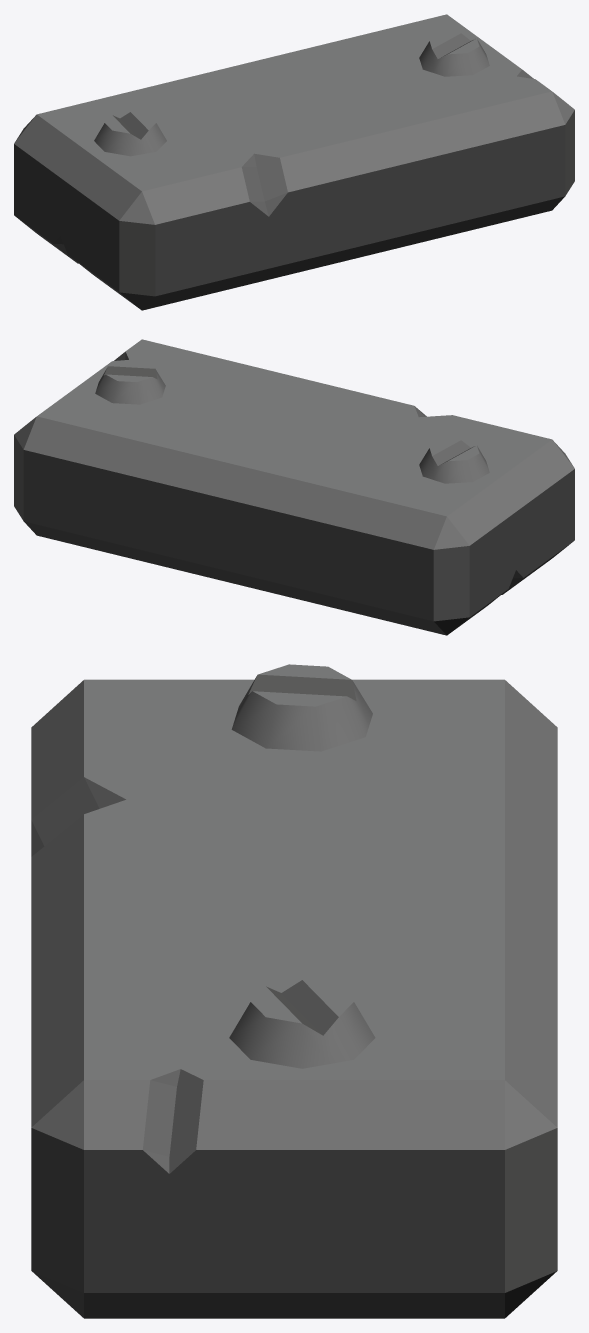
The model's file is m_kub_metalOld_flatBrick.FBX.
The picture shows the model from 3 angles, top to bottom: view 1: azimuth 30°, elevation 25°; view 2: azimuth 150°, elevation 25°; view 3: azimuth 270°, elevation 25°; orthographic projection. The views are drawn at different scales.
Parts seen in each view (by area): view 1: m_kub_metalOld_flatBrick; view 2: m_kub_metalOld_flatBrick; view 3: m_kub_metalOld_flatBrick.
Part boxes in pixels (x1=…): m_kub_metalOld_flatBrick: x1=14, y1=14, x2=574, y2=310; m_kub_metalOld_flatBrick: x1=14, y1=339, x2=574, y2=635; m_kub_metalOld_flatBrick: x1=31, y1=664, x2=557, y2=1318.
Bounding box in the file's own units: 2 × 0.5761 × 1.
